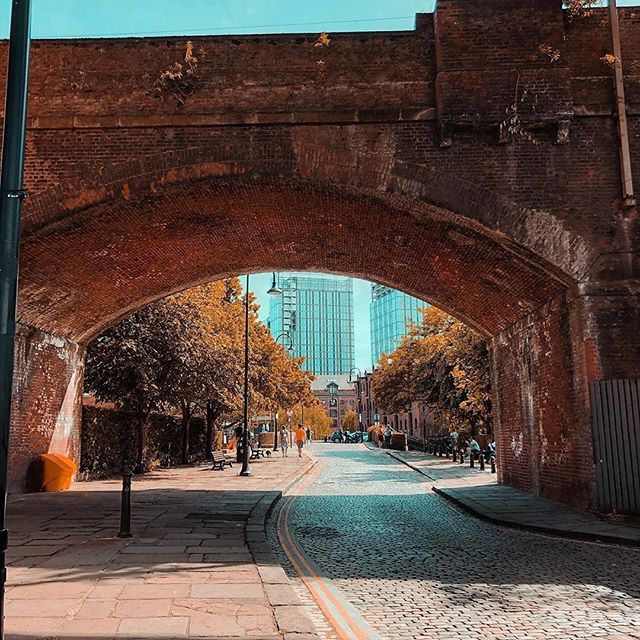bridge: (1, 1, 610, 365)
building: (272, 269, 360, 388), (372, 284, 433, 376)
sidewalk: (1, 433, 301, 640)
street: (251, 430, 640, 640)
vegetation: (98, 292, 306, 440), (364, 314, 487, 432)
